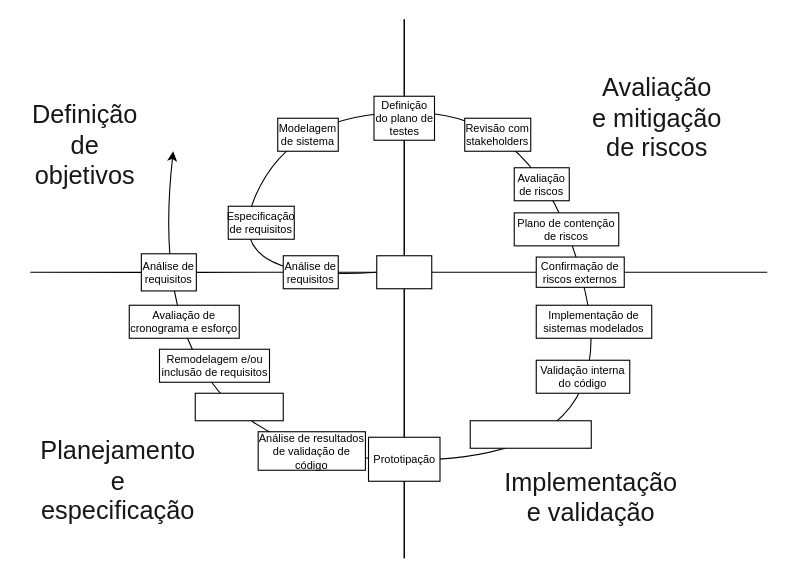
Some shapes in this 788 by 579 pixel diagram are drawn without their labels. Here are the shapes that lost their labels. From the top down, the box of each, then its label:
(376, 255, 432, 289): Início do projeto
(194, 392, 283, 421): Feedback com stakeholders
(469, 420, 591, 448): Testes de requisitos / software
